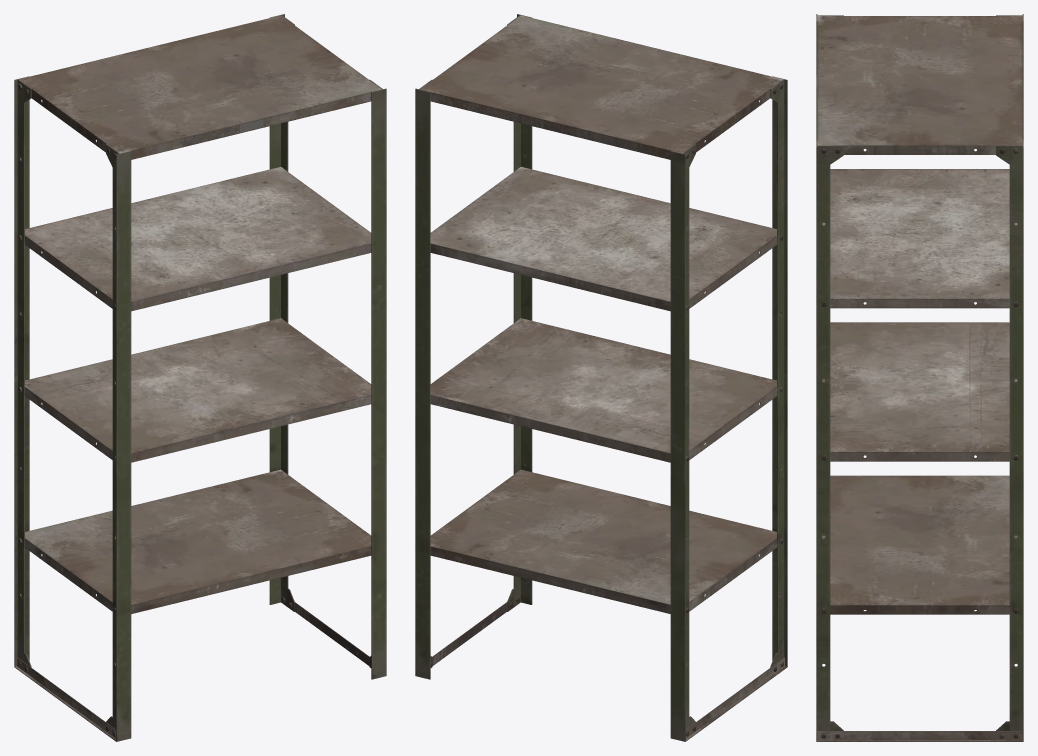
The model's file is g_rack_worn.glb.
The picture shows the model from 3 angles, left to right: view 1: azimuth 30°, elevation 25°; view 2: azimuth 150°, elevation 25°; view 3: azimuth 270°, elevation 25°; orthographic projection.
Parts seen in each view (by area): view 1: worn_metal_rack; view 2: worn_metal_rack; view 3: worn_metal_rack.
Part boxes in pixels (x1,y1,x2,y2): worn_metal_rack: (14,14,386,741); worn_metal_rack: (415,14,787,741); worn_metal_rack: (816,14,1023,741).
Bounding box in the file's own units: 0.9153 × 1.9 × 0.6001.
1 material, 1 textured.
